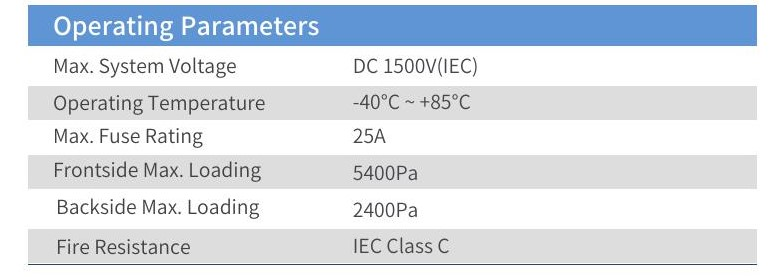table: (9, 39, 771, 274)
table column: (321, 43, 750, 269), (35, 44, 292, 270)
table row: (24, 48, 757, 82), (25, 231, 765, 263), (27, 194, 763, 226), (25, 124, 762, 151), (24, 91, 760, 118), (27, 161, 761, 186)
